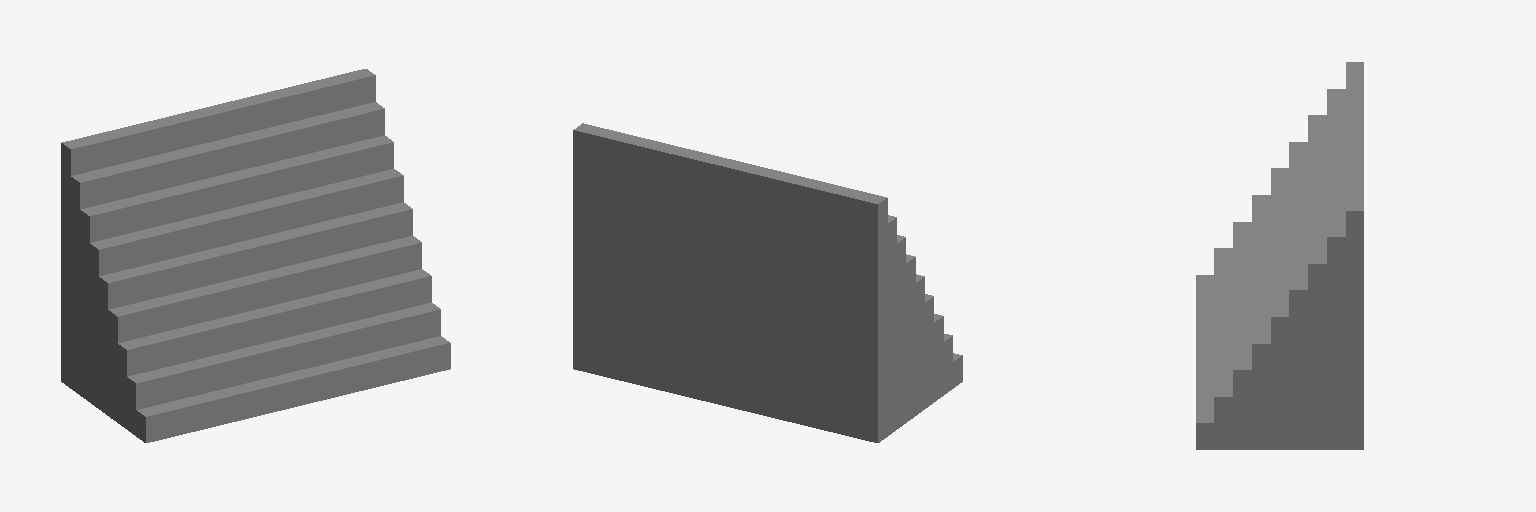
The model's file is Stairs.obj.
The picture shows the model from 3 angles: view 1: azimuth 30°, elevation 25°; view 2: azimuth 150°, elevation 25°; view 3: azimuth 270°, elevation 25°; orthographic projection.
Parts seen in each view (by area): view 1: SM_Stairs_E; view 2: SM_Stairs_E; view 3: SM_Stairs_E.
Part boxes in pixels (bbox=[...]): SM_Stairs_E: bbox=[61, 69, 450, 442]; SM_Stairs_E: bbox=[573, 123, 962, 442]; SM_Stairs_E: bbox=[1196, 62, 1363, 449].
Bounding box in the file's own units: 73.93 × 55.46 × 35.43.